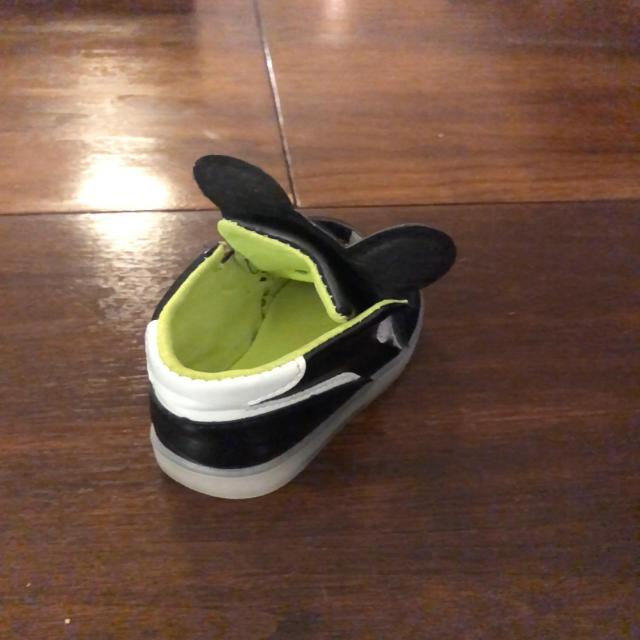shoe: (143, 155, 459, 503)
